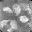people: (9, 19, 18, 30), (2, 6, 13, 14), (14, 4, 21, 16), (0, 19, 8, 27), (20, 16, 29, 23)
